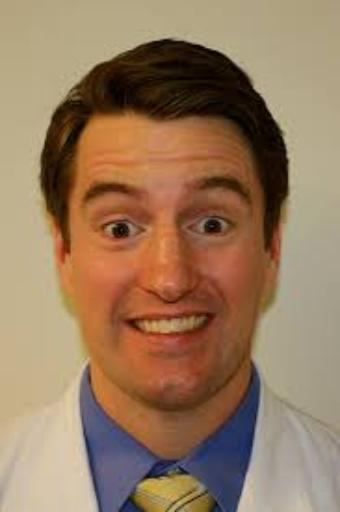left_eye: (187, 217, 238, 239)
left_lip_corner: (207, 307, 222, 326)
right_eye: (97, 219, 147, 243)
right_lip_corner: (121, 314, 136, 334)
